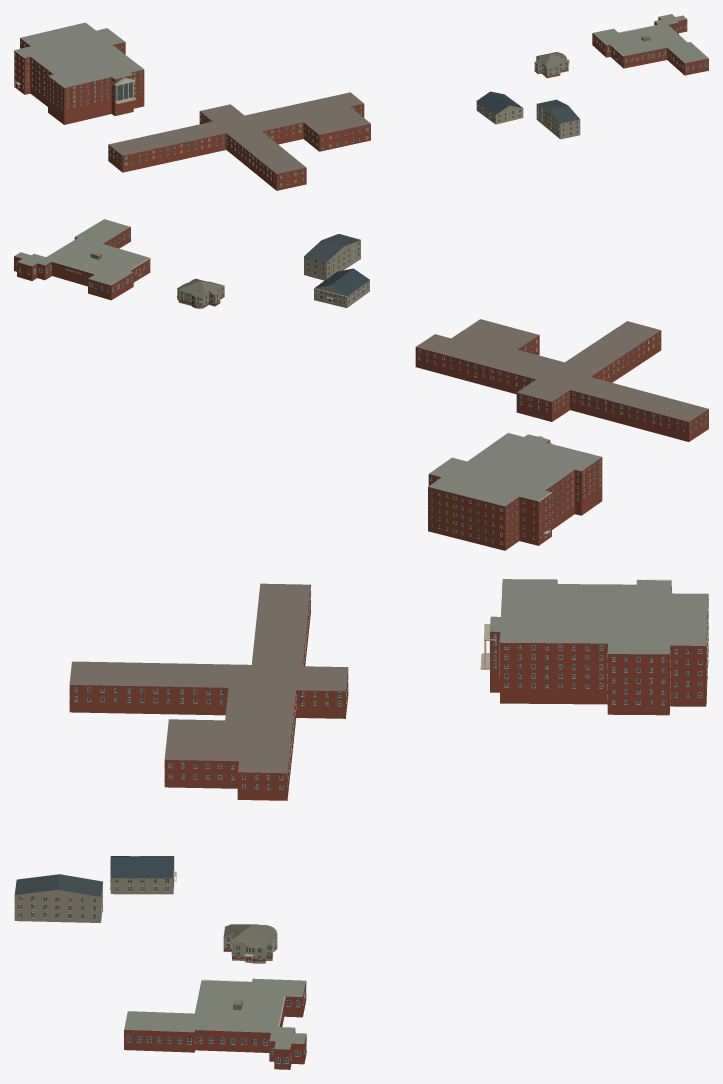
3 views of the same model, one above another, from view 1: azimuth 30°, elevation 25°; view 2: azimuth 150°, elevation 25°; view 3: azimuth 270°, elevation 25° (orthographic). The views are drawn at different scales.
Visible parts, largest first — view 1: -2_0_188827132_0, -2_0_318264455_2; view 2: -2_0_188827132_0, -2_0_318264455_2; view 3: -2_0_188827132_0, -2_0_318264455_2.
Boxes of the visible parts, left/top/right/bottom form: -2_0_188827132_0: left=14, top=14, right=708, bottom=190; -2_0_318264455_2: left=476, top=56, right=580, bottom=139; -2_0_188827132_0: left=14, top=219, right=708, bottom=550; -2_0_318264455_2: left=177, top=240, right=369, bottom=308; -2_0_188827132_0: left=14, top=579, right=708, bottom=1069; -2_0_318264455_2: left=14, top=868, right=277, bottom=963.
Bounding box in the file's own units: 400 × 24.9 × 257.
